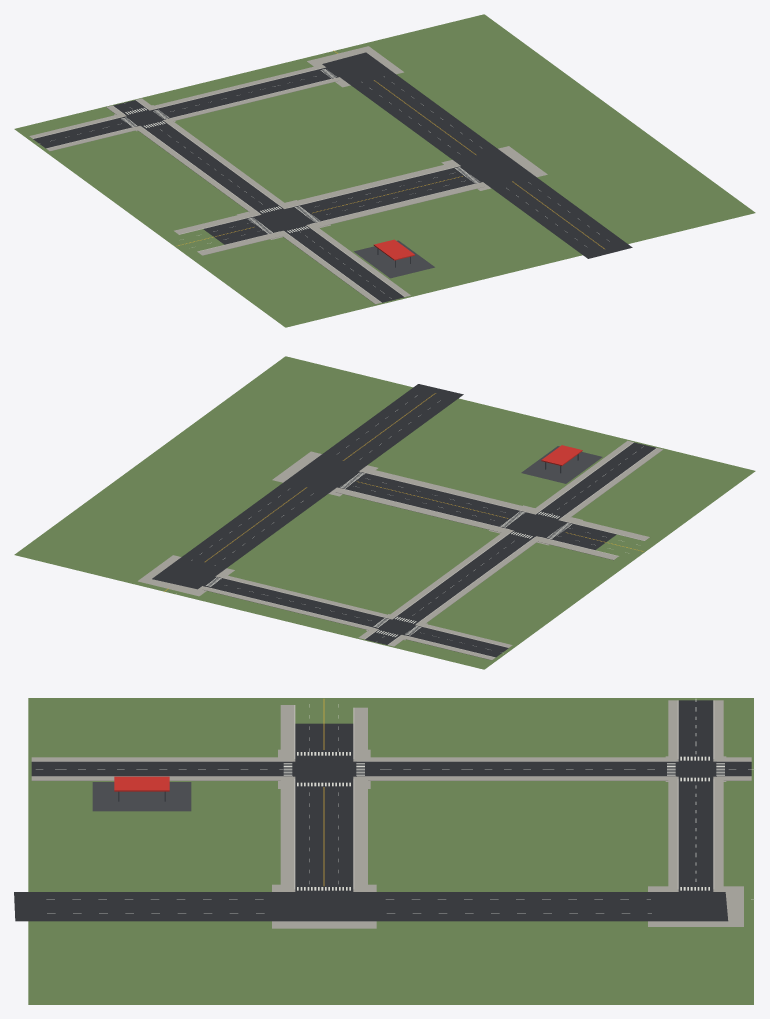
File: Ground_7_5.fbx
3 renders of one model, top to bottom at view 1: azimuth 30°, elevation 25°; view 2: azimuth 150°, elevation 25°; view 3: azimuth 270°, elevation 25°, orthographic. The views are drawn at different scales.
Parts seen in each view (by area): view 1: Ground_7_5; view 2: Ground_7_5; view 3: Ground_7_5.
Part boxes in pixels (left/top/right/bottom): Ground_7_5: left=14, top=14, right=755, bottom=327; Ground_7_5: left=14, top=356, right=755, bottom=669; Ground_7_5: left=14, top=698, right=755, bottom=1004.
Bounding box in the file's own units: 250 × 5.1 × 256.
